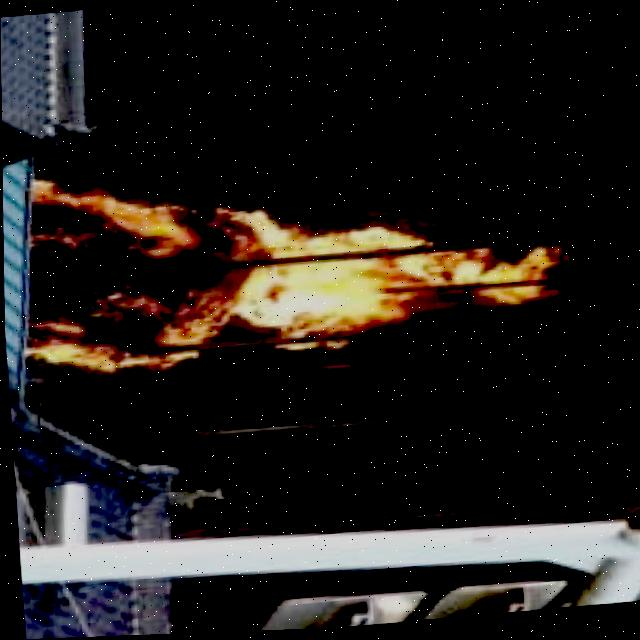Fire: (21, 144, 565, 382)
